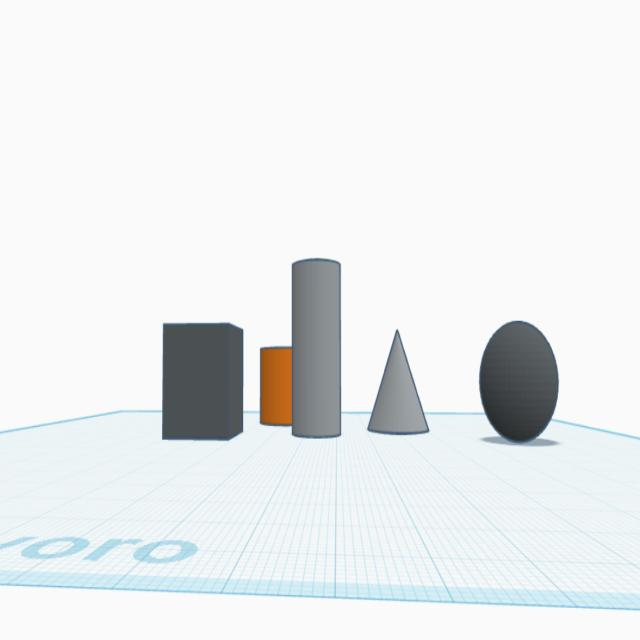cone: (367, 324, 431, 439)
cube: (159, 314, 245, 445)
sphere: (477, 319, 561, 445)
